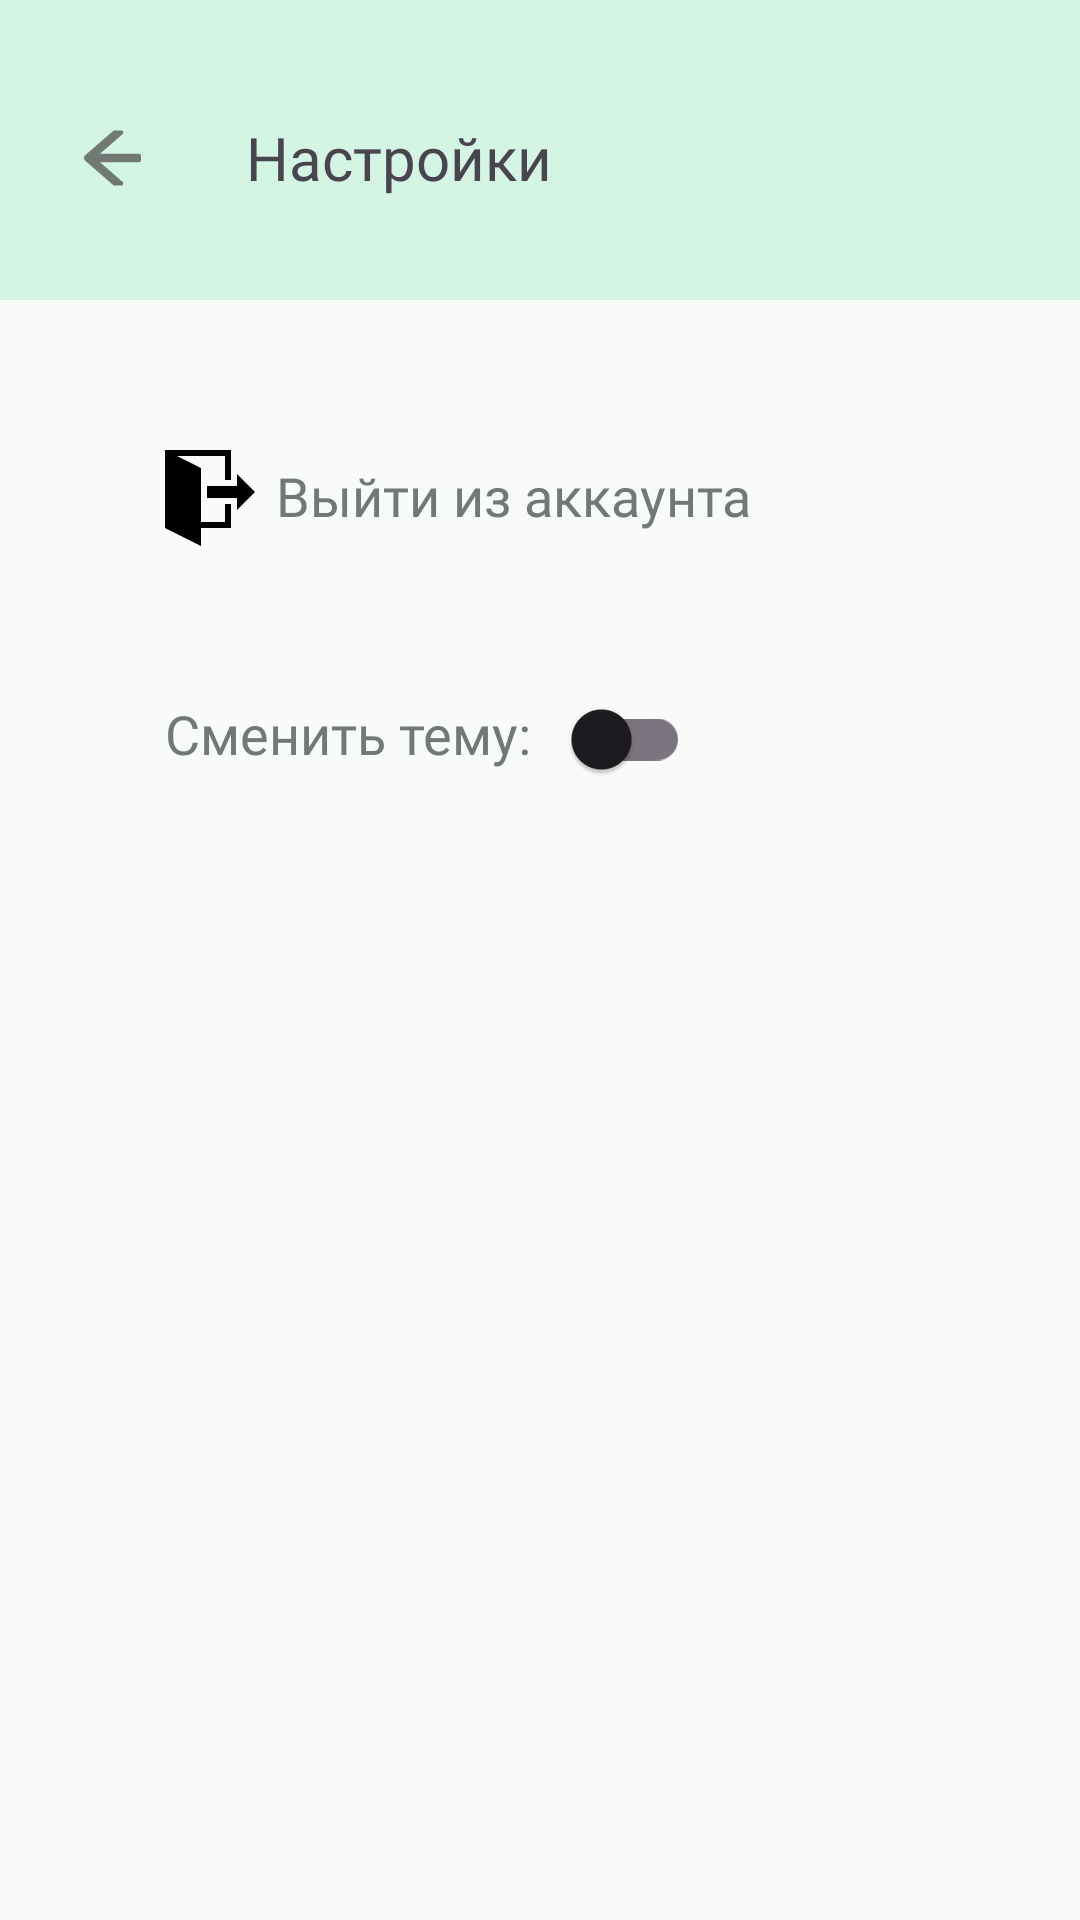

Named icons in this screenshot (1080x1920) and their bounding boxes, (left=x1, top=y1, right=x2, bottom=y2):
arrow left: (left=84, top=130, right=141, bottom=186)
icomoon free exit: (left=165, top=450, right=255, bottom=546)
